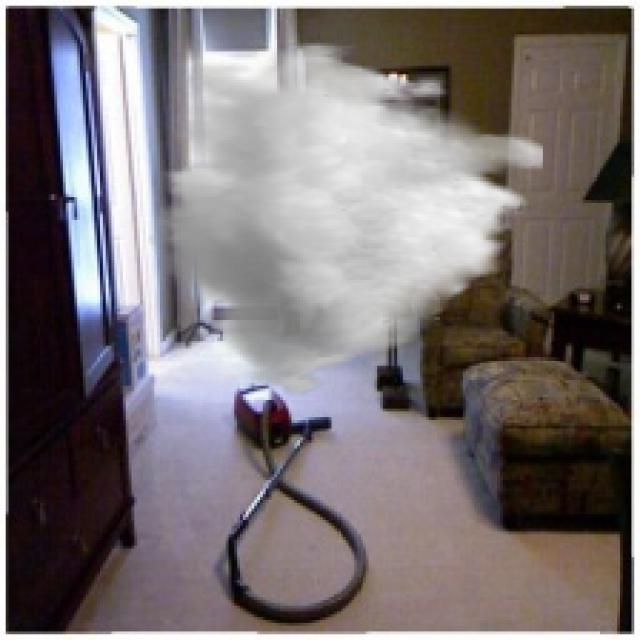smoke: (148, 43, 546, 403)
